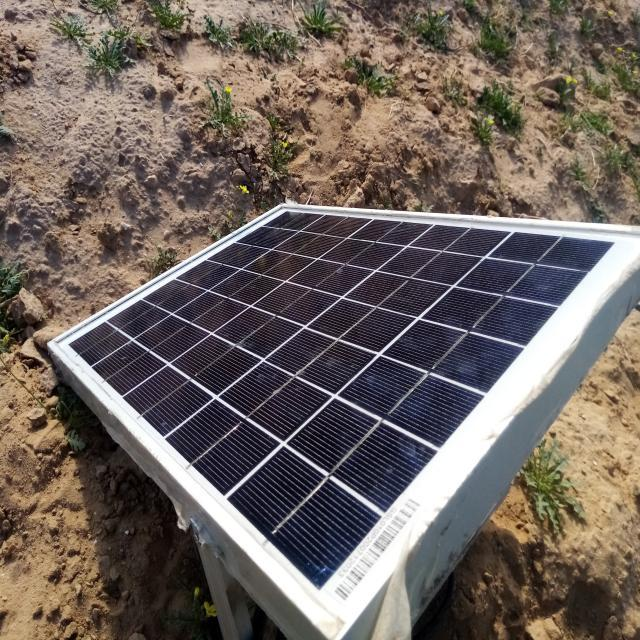no faulty: (55, 205, 640, 632)
